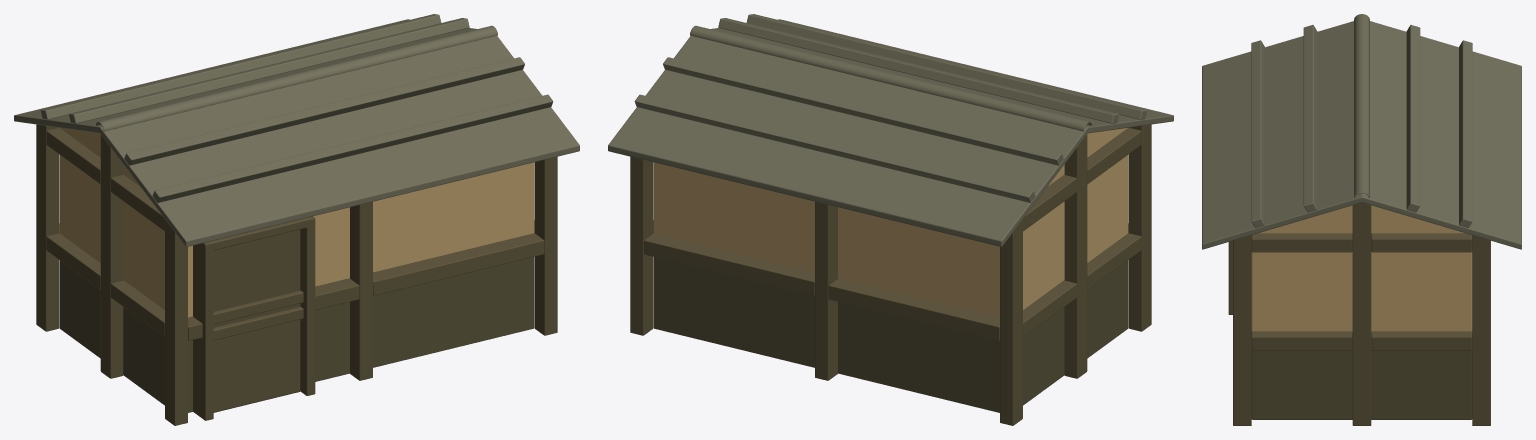
Rendered from Building03_v01.glb.
The picture shows the model from 3 angles, left to right: view 1: azimuth 30°, elevation 25°; view 2: azimuth 150°, elevation 25°; view 3: azimuth 270°, elevation 25°; orthographic projection. The views are drawn at different scales.
Visible parts, largest first — view 1: SM_Building03; view 2: SM_Building03; view 3: SM_Building03.
Part boxes in pixels (x1,y1,x2,y2): SM_Building03: (14,14,579,425); SM_Building03: (608,14,1173,425); SM_Building03: (1202,14,1521,425).
Size of the model in its own units: 4.97 by 3.07 by 3.76.
